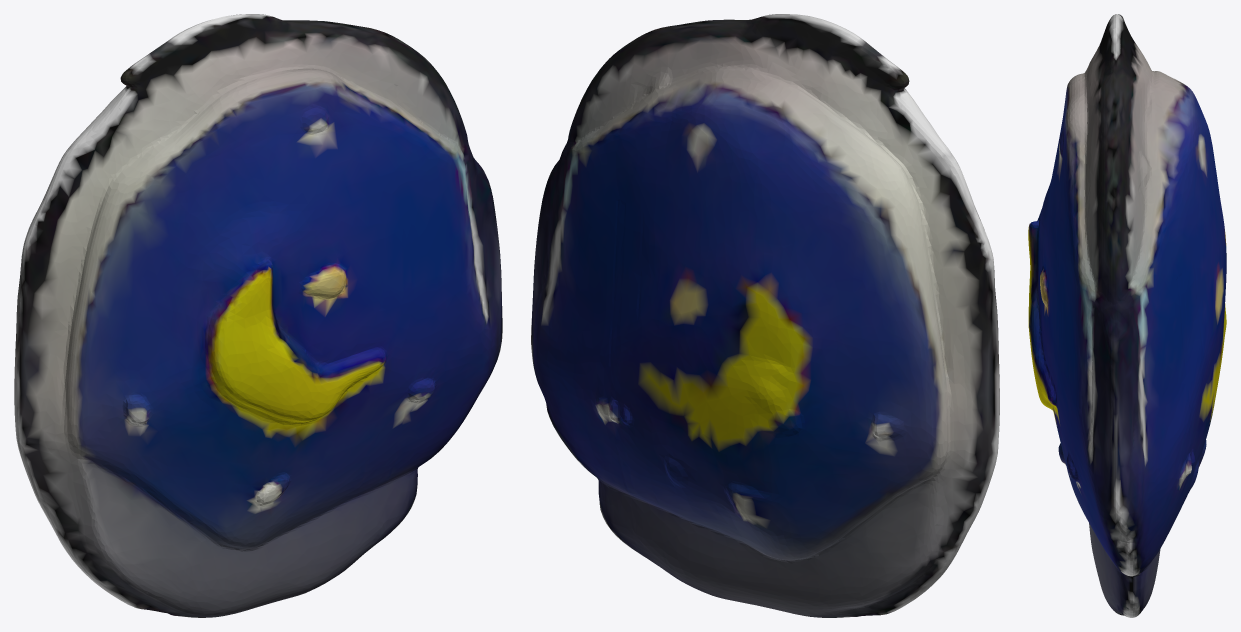
File: lunar_shield.glb
3 renders of one model, left to right at view 1: azimuth 30°, elevation 25°; view 2: azimuth 150°, elevation 25°; view 3: azimuth 270°, elevation 25°, orthographic. The views are drawn at different scales.
Visible parts, largest first — view 1: geometry_0; view 2: geometry_0; view 3: geometry_0.
Boxes of the visible parts, left/top/right/bottom form: geometry_0: left=14, top=14, right=502, bottom=617; geometry_0: left=531, top=14, right=999, bottom=617; geometry_0: left=1028, top=14, right=1226, bottom=617.
Size of the model in its own units: 0.5938 by 0.7103 by 0.2347.
